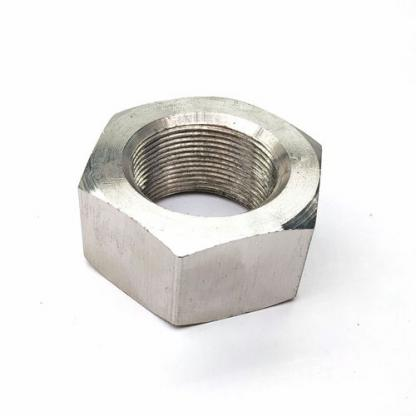FOD: (72, 93, 327, 328)
